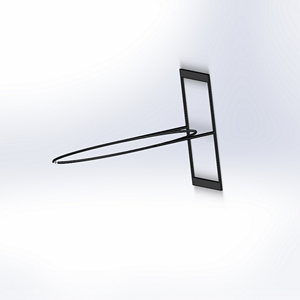circle: (51, 65, 227, 191)
